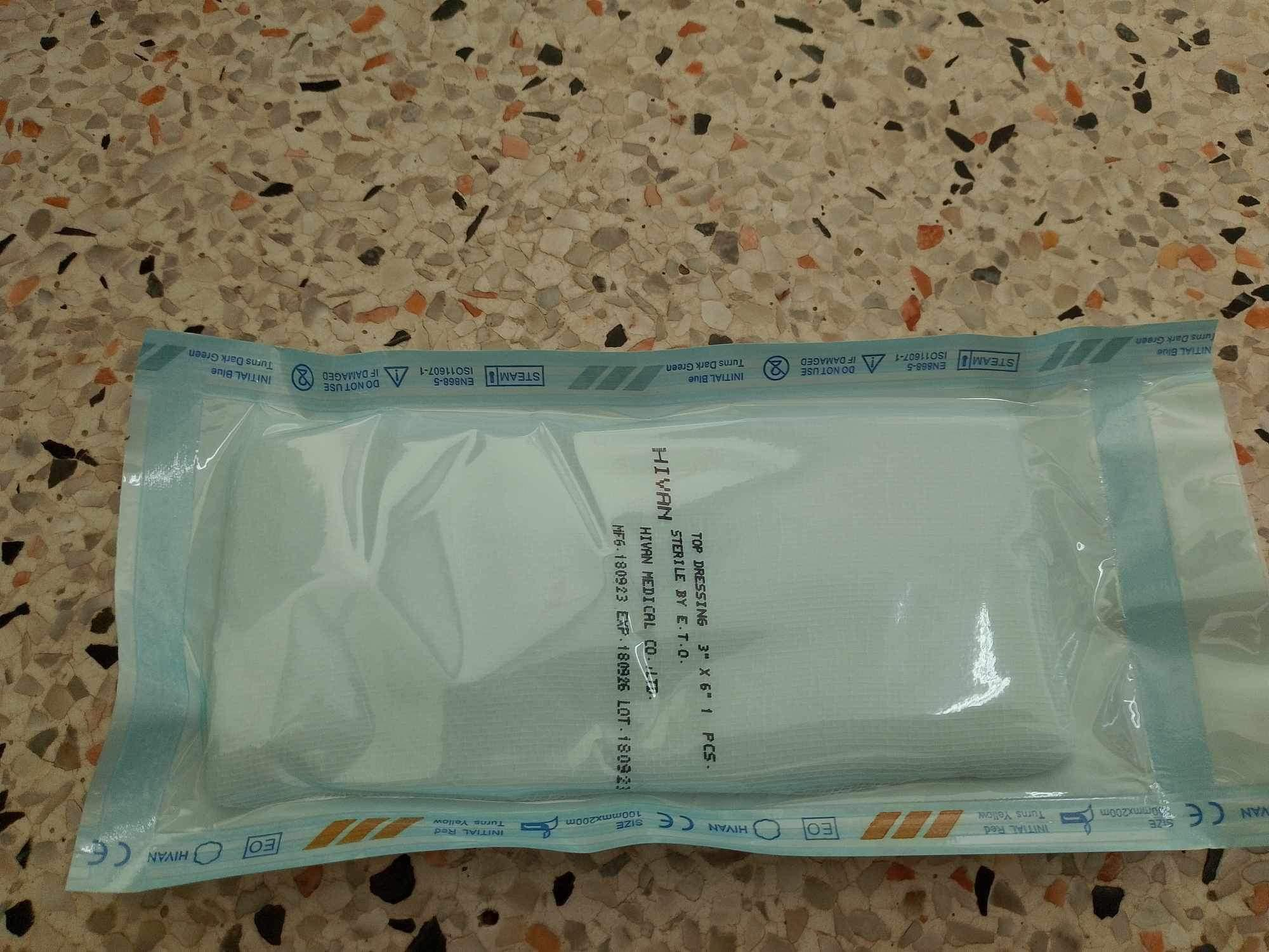General: (61, 316, 1265, 895)
Sharps: (631, 638, 659, 699)
